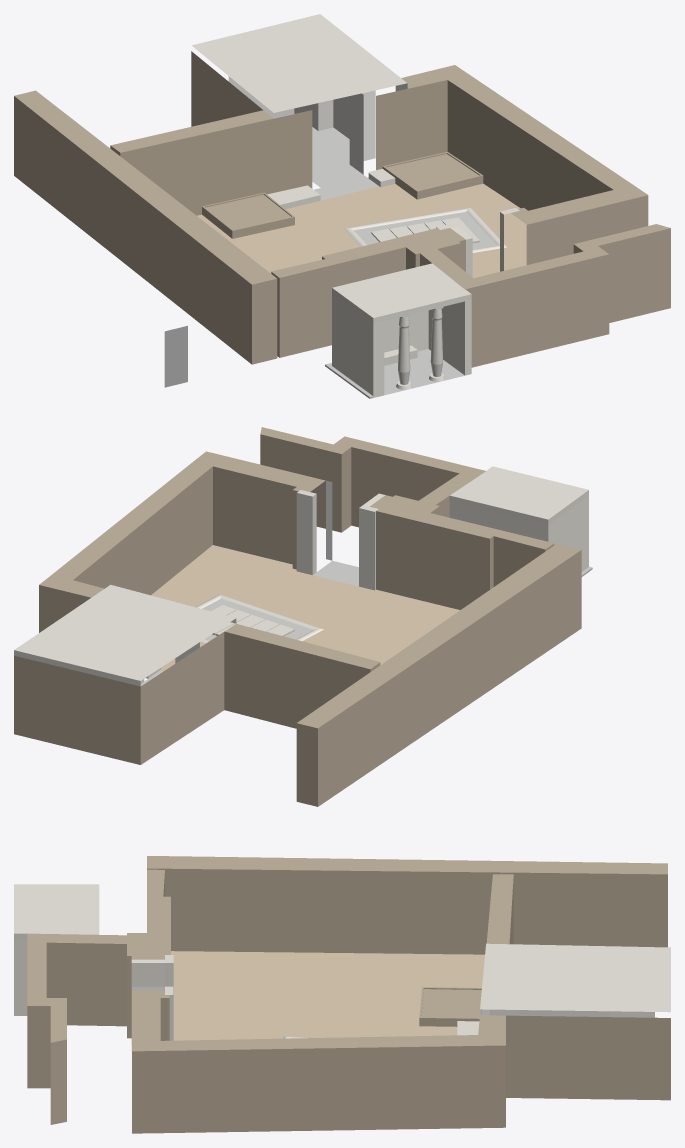
File: Anonymous_Dyn19_chapel.glb
3 renders of one model, top to bottom at view 1: azimuth 30°, elevation 25°; view 2: azimuth 150°, elevation 25°; view 3: azimuth 270°, elevation 25°, orthographic. The views are drawn at different scales.
Visible parts, largest first — view 1: Mesh1 Model, Mesh3 Model; view 2: Mesh1 Model; view 3: Mesh1 Model.
Part boxes in pixels (left/top/right/bottom): Mesh1 Model: left=14, top=14, right=670, bottom=398; Mesh3 Model: left=164, top=325, right=187, bottom=387; Mesh1 Model: left=14, top=427, right=592, bottom=806; Mesh1 Model: left=14, top=856, right=670, bottom=1133.
Size of the model in its own units: 14.22 by 2.45 by 16.42.
